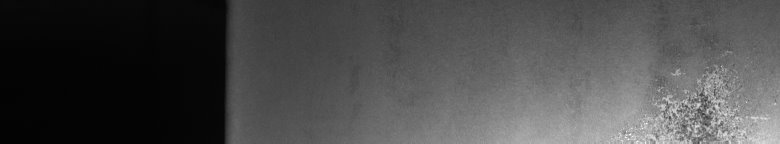hc: (619, 48, 770, 136)
